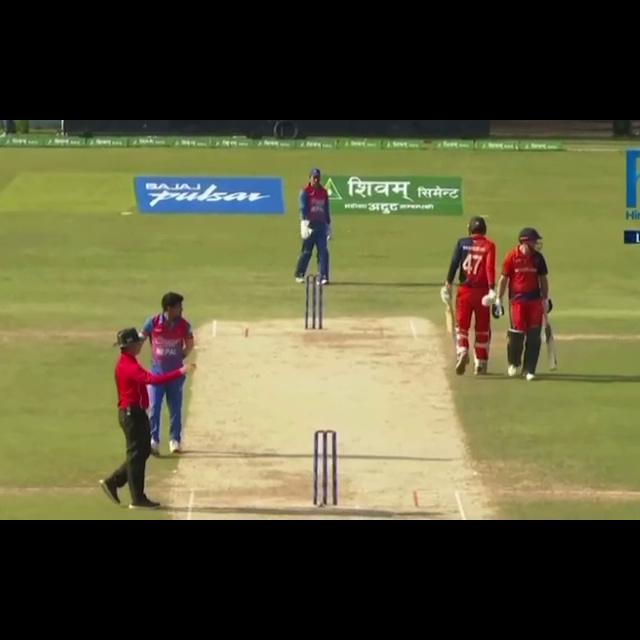umpire: (97, 326, 199, 513)
